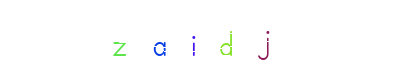A: (140, 0, 220, 80)
D: (171, 0, 251, 80)
I: (162, 0, 242, 80)
J: (225, 0, 305, 80)
Z: (127, 0, 207, 80)
